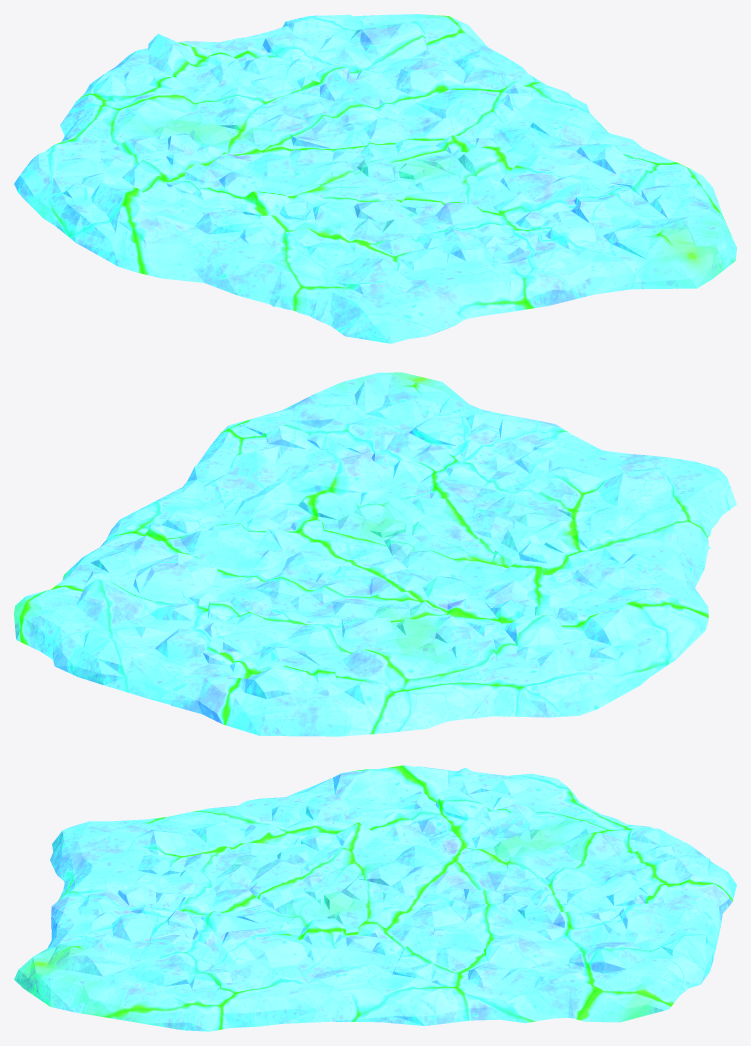
The model's file is DesertRoadA.fbx.
The picture shows the model from 3 angles, top to bottom: view 1: azimuth 30°, elevation 25°; view 2: azimuth 150°, elevation 25°; view 3: azimuth 270°, elevation 25°; orthographic projection. The views are drawn at different scales.
Visible parts, largest first — view 1: Dn_HL_DesertRoad_A_01.mo; view 2: Dn_HL_DesertRoad_A_01.mo; view 3: Dn_HL_DesertRoad_A_01.mo.
Boxes of the visible parts, left/top/right/bottom form: Dn_HL_DesertRoad_A_01.mo: left=14, top=14, right=736, bottom=343; Dn_HL_DesertRoad_A_01.mo: left=14, top=372, right=736, bottom=736; Dn_HL_DesertRoad_A_01.mo: left=14, top=765, right=736, bottom=1031.
Size of the model in its own units: 1332 by 100 by 1623.
